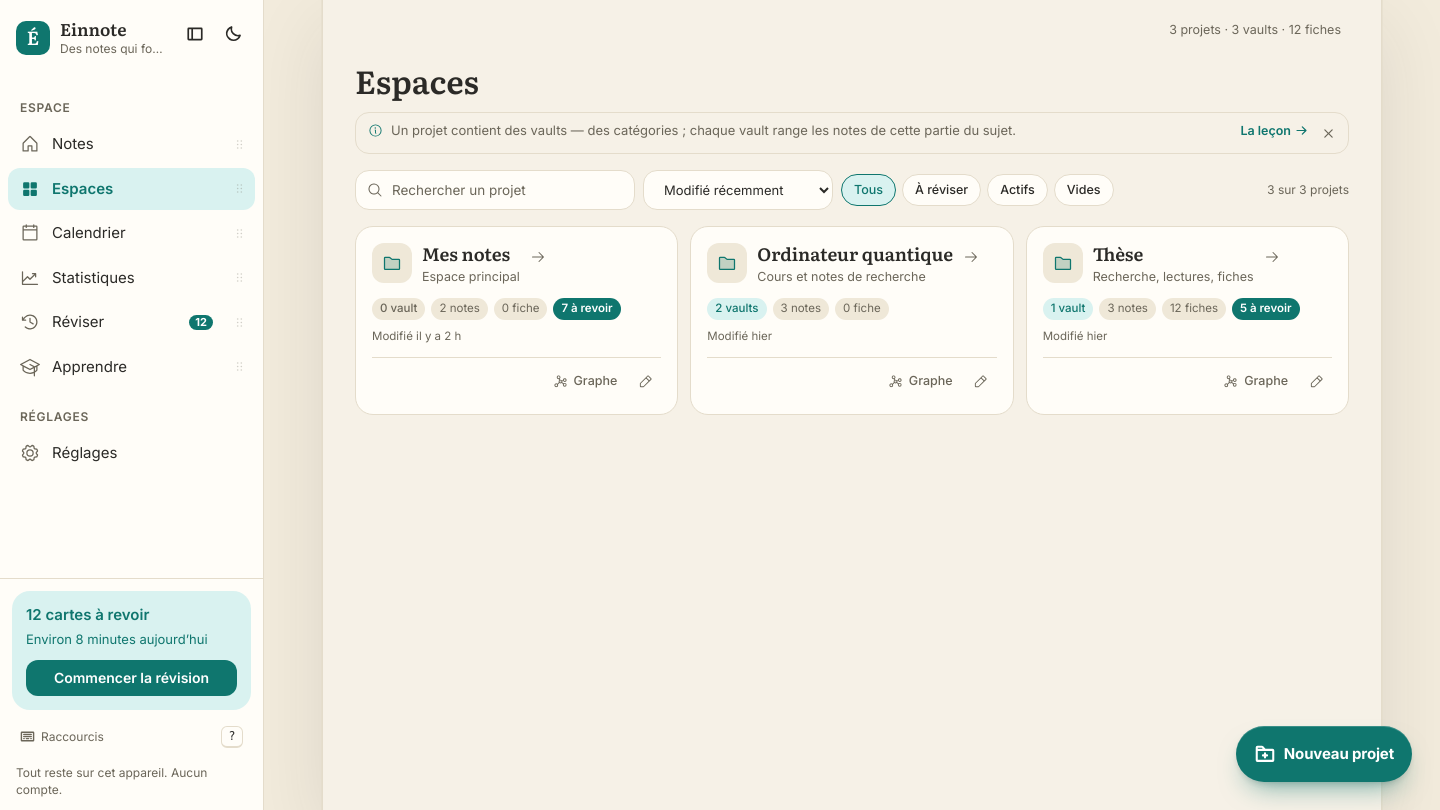
Test: Espaces, une seule hiérarchie › donne un graphe au projet comme au vault
Click the button with aria-label "Graphe du projet Thèse": point(1256, 382) [1215, 366, 1296, 398]
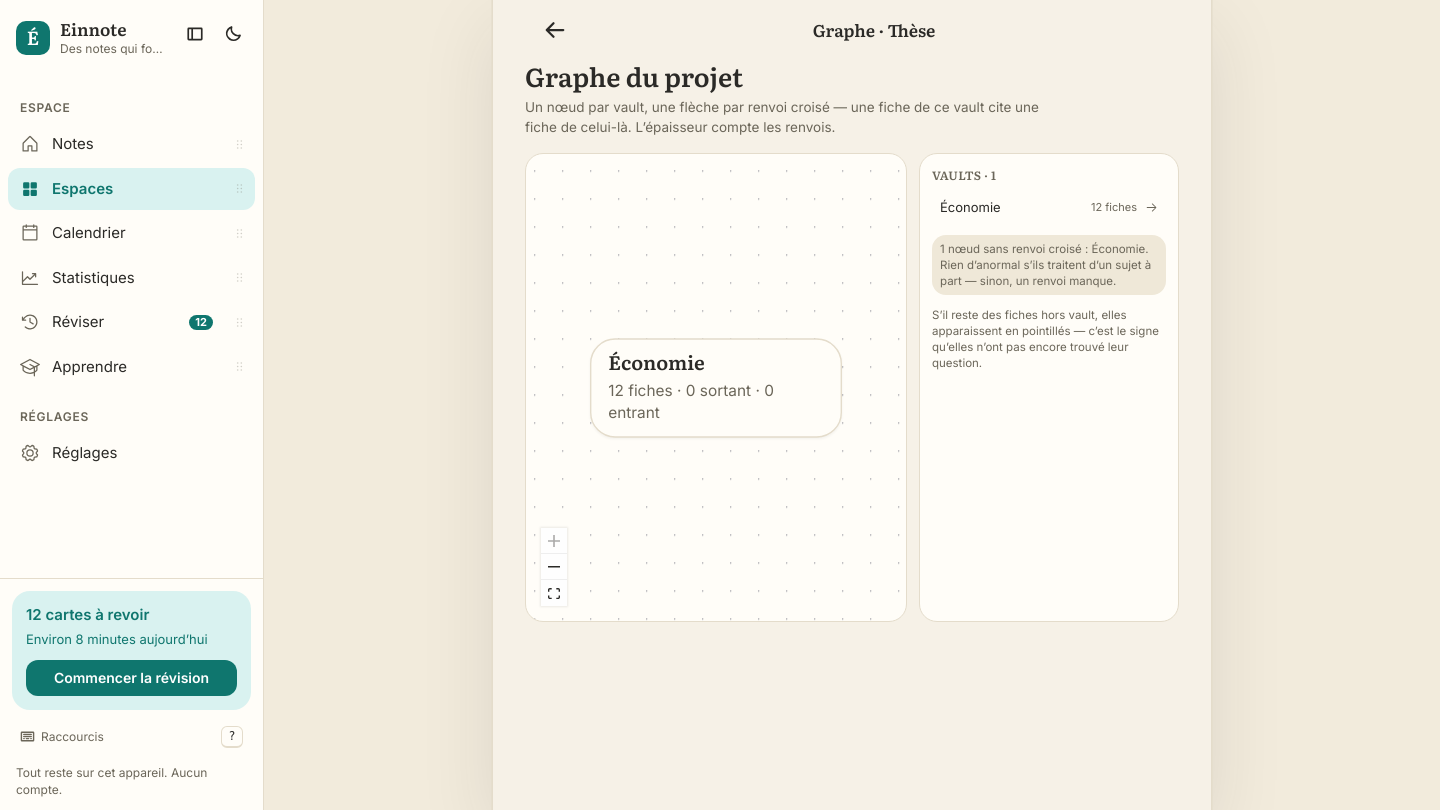
Now the heading "Graphe du projet" is shown, box [525, 56, 743, 95]
Now the element named "Graphe du projet Thèse" is shown, box [526, 154, 906, 621]
